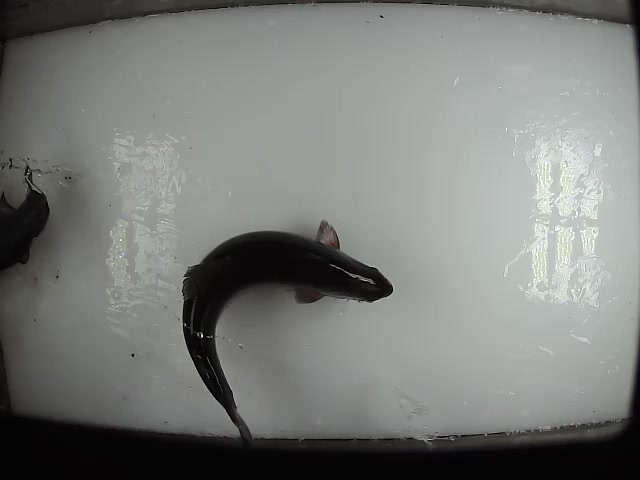fish: (181, 220, 395, 456), (1, 153, 59, 279)
